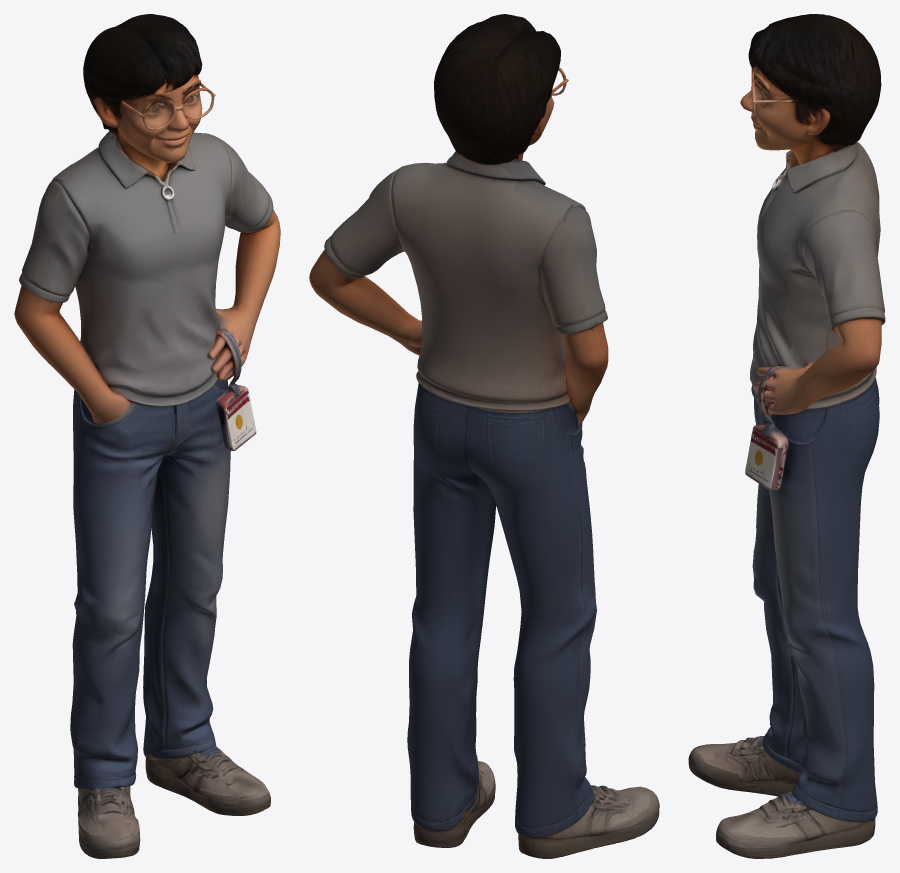
Rendered from chico2.optimized.glb.
3 renders of one model, left to right at view 1: azimuth 30°, elevation 25°; view 2: azimuth 150°, elevation 25°; view 3: azimuth 270°, elevation 25°, orthographic. The views are drawn at different scales.
Parts seen in each view (by area): view 1: chico2; view 2: chico2; view 3: chico2.
Boxes of the visible parts, left/top/right/bottom form: chico2: left=14, top=14, right=280, bottom=858; chico2: left=309, top=14, right=659, bottom=858; chico2: left=688, top=14, right=885, bottom=858.
Size of the model in its own units: 0.4117 by 1.13 by 0.2537.
1 material, 1 textured.
